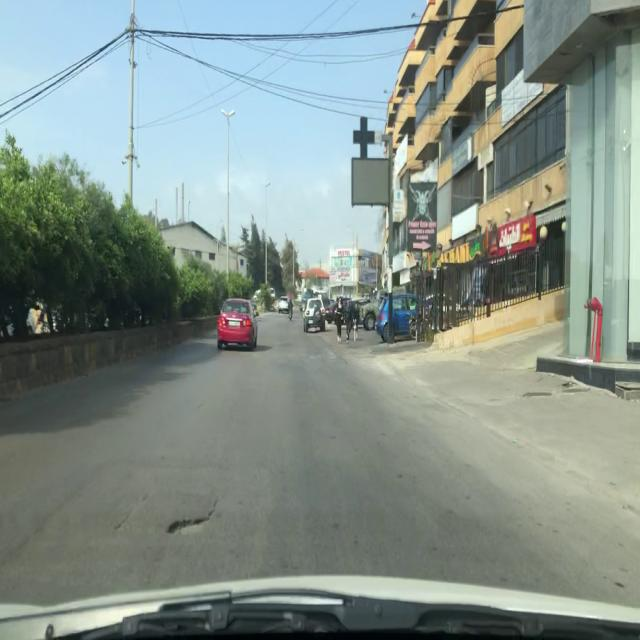Pothole: (162, 514, 219, 542)
